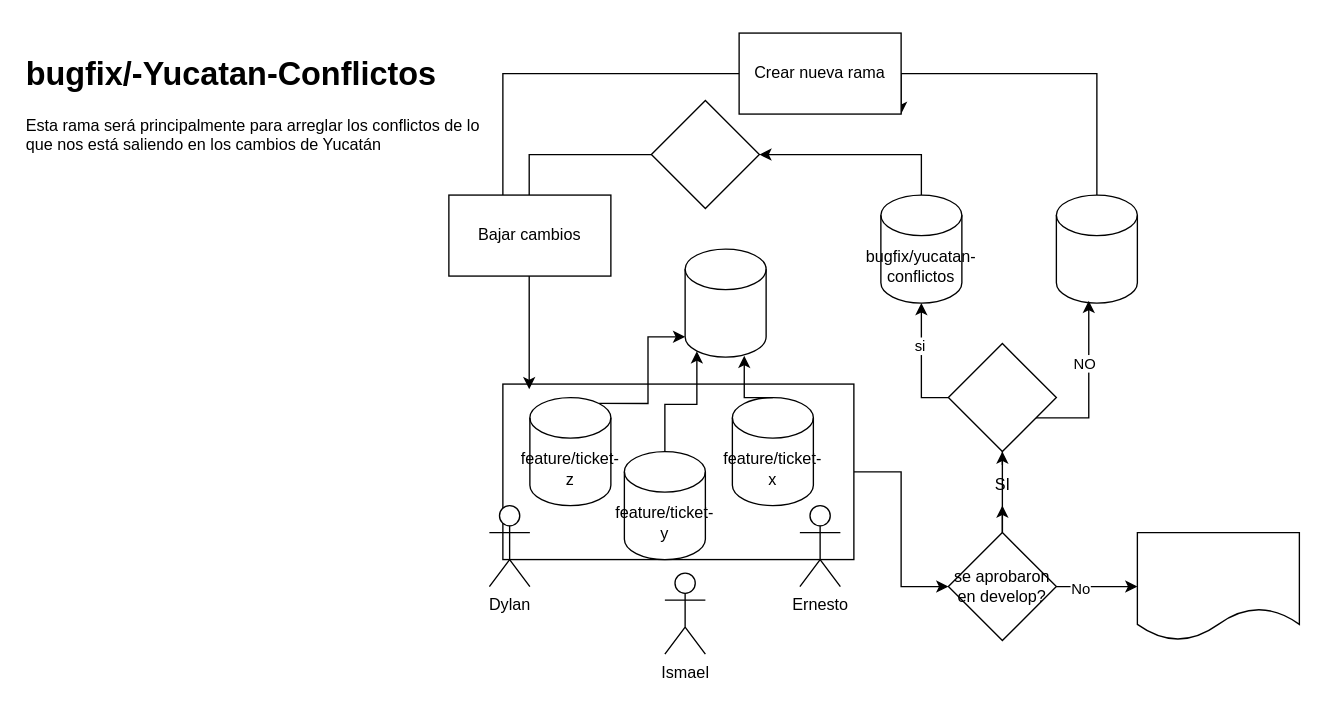
Image size: 1323x706. Some labels were removed from this diagram. The centre of each missing label's shape, as x and y in pixels:
"cambios para yucatan?" goes at pixel 1001 397.
"develop" goes at pixel 725 302.
"main" goes at pixel 1096 248.
"NOMAMES KBRON" goes at pixel 1217 586.
"vas a trabajar con Yucatan?" goes at pixel 704 154.
